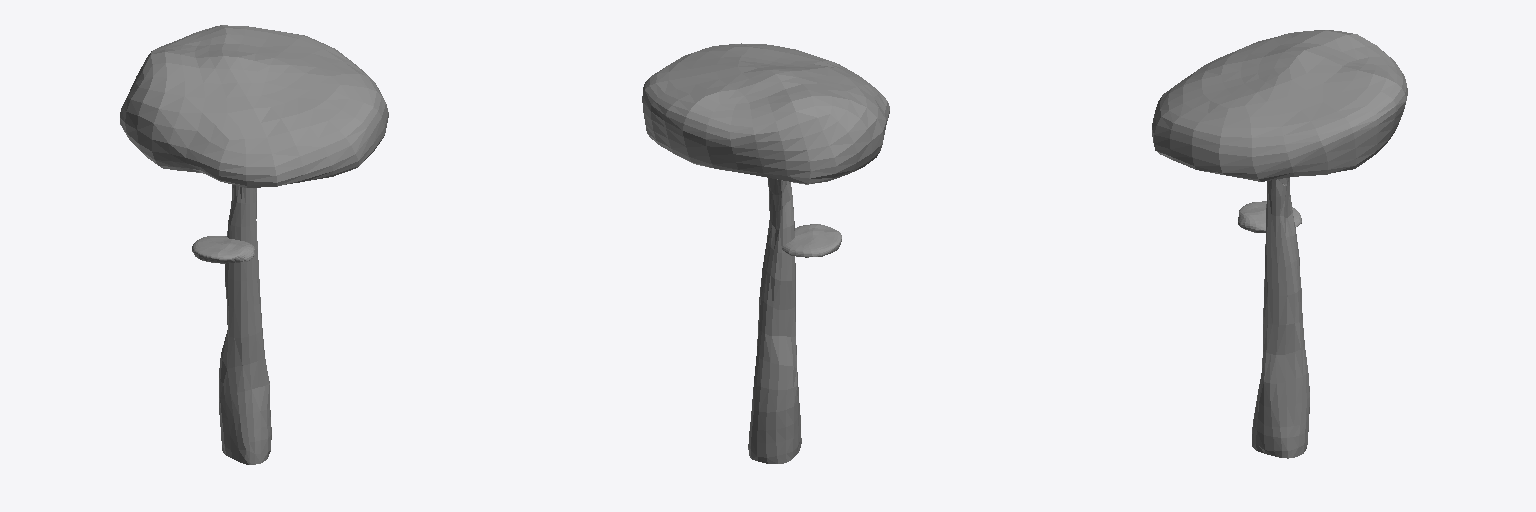
The model's file is tree01.obj.
The picture shows the model from 3 angles: view 1: azimuth 30°, elevation 25°; view 2: azimuth 150°, elevation 25°; view 3: azimuth 270°, elevation 25°; orthographic projection.
Parts seen in each view (by area): view 1: tree01; view 2: tree01; view 3: tree01.
Boxes of the visible parts, x1=… form: tree01: x1=120, y1=25, x2=388, y2=464; tree01: x1=642, y1=43, x2=889, y2=463; tree01: x1=1152, y1=30, x2=1407, y2=458.
Size of the model in its own units: 52.9 by 89.1 by 52.87.